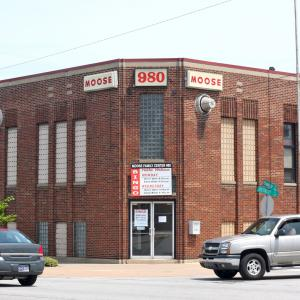Vehicle-registration-plate: (19, 267, 30, 274)
